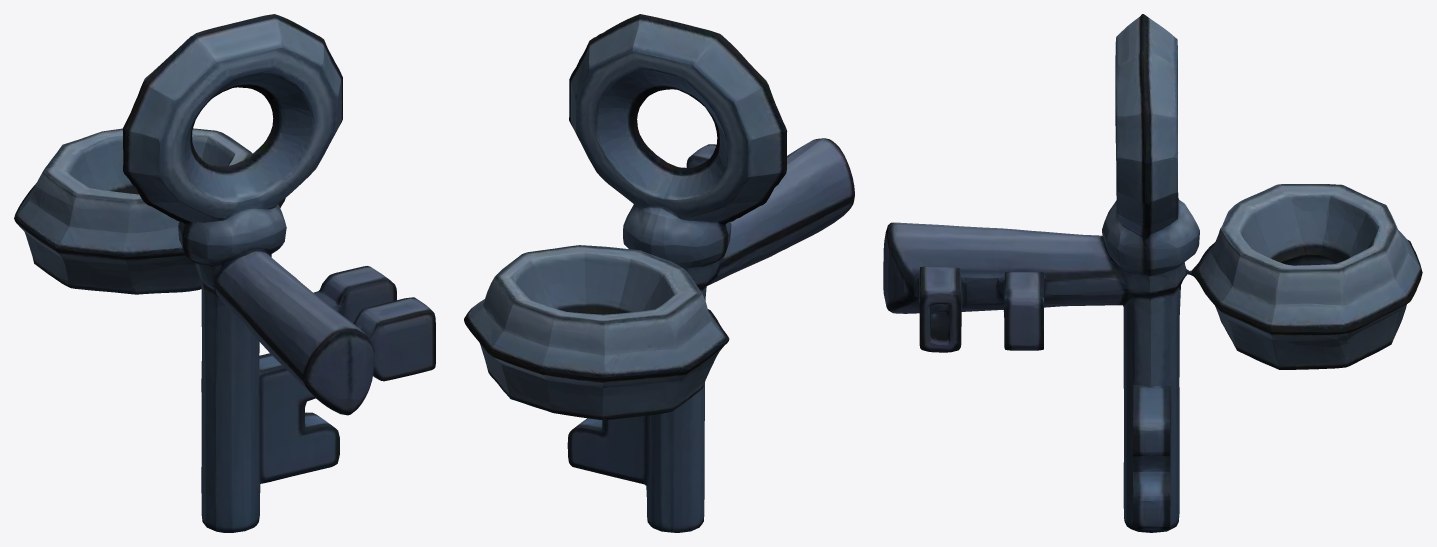
The picture shows the model from 3 angles, left to right: view 1: azimuth 30°, elevation 25°; view 2: azimuth 150°, elevation 25°; view 3: azimuth 270°, elevation 25°; orthographic projection. The views are drawn at different scales.
Visible parts, largest first — view 1: world; view 2: world; view 3: world.
Boxes of the visible parts, box(x1,y1,x2,y2) form: world: box(14, 14, 435, 532); world: box(464, 14, 854, 532); world: box(883, 14, 1422, 532).
Size of the model in its own units: 0.4864 by 1 by 0.9965.
Materials: 1 (1 with a texture image).
